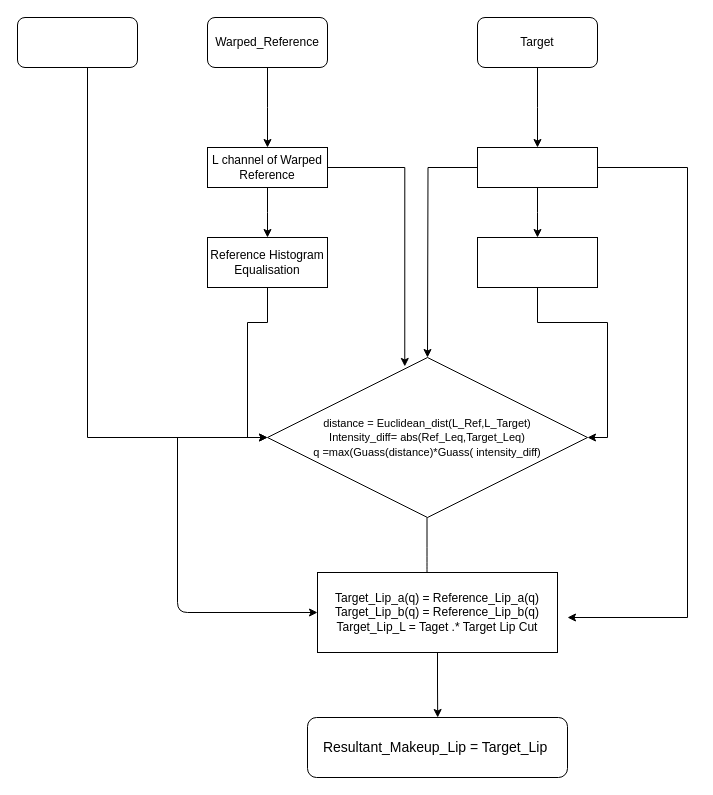
Image size: 713x795. Some labels were removed from this diagram. The shapes that lost their labels are listed below. From the top down, each one's centre as x and y in pixels, then its label:
(77,42): Target Lip Cut Mask
(537,167): L channel of Target
(537,262): Target Histogram Equalisation
